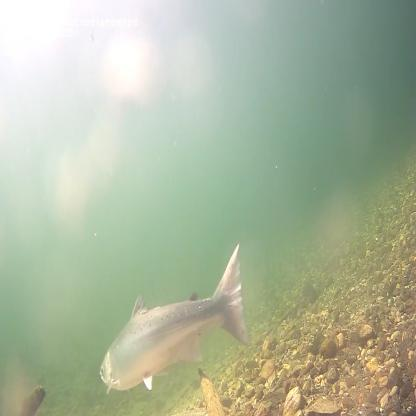salmon: (97, 238, 252, 398)
